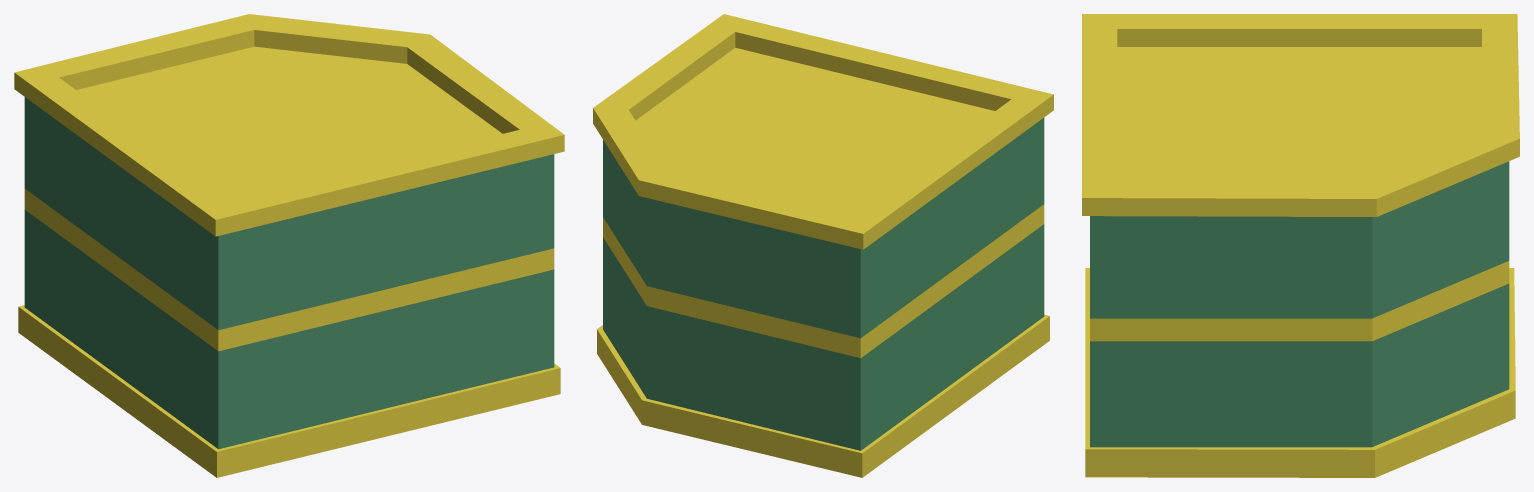
The model's file is Map-Shop-Lv2-Y.fbx.
The picture shows the model from 3 angles, left to right: view 1: azimuth 30°, elevation 25°; view 2: azimuth 150°, elevation 25°; view 3: azimuth 270°, elevation 25°; orthographic projection. The views are drawn at different scales.
Parts seen in each view (by area): view 1: Map-Shop-Lv2-Y; view 2: Map-Shop-Lv2-Y; view 3: Map-Shop-Lv2-Y.
Part boxes in pixels (bbox=[...]): Map-Shop-Lv2-Y: bbox=[14, 14, 564, 477]; Map-Shop-Lv2-Y: bbox=[593, 14, 1053, 477]; Map-Shop-Lv2-Y: bbox=[1082, 14, 1519, 477].
Size of the model in its own units: 2.09 by 1.48 by 2.09.
